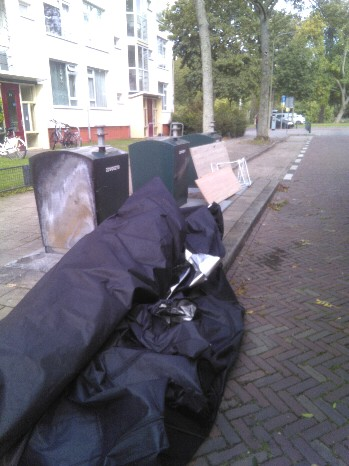Container: (54, 146, 112, 236), (130, 120, 193, 190)
Rest: (0, 154, 274, 466), (195, 142, 248, 197)
